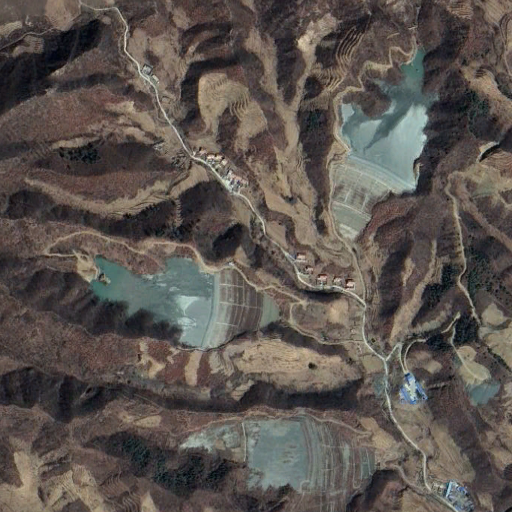tp: (328, 49, 430, 241), (91, 252, 278, 352), (179, 418, 380, 495)
